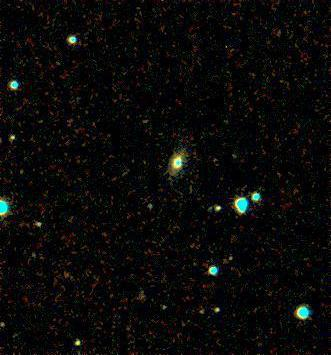star: (215, 246, 245, 276)
